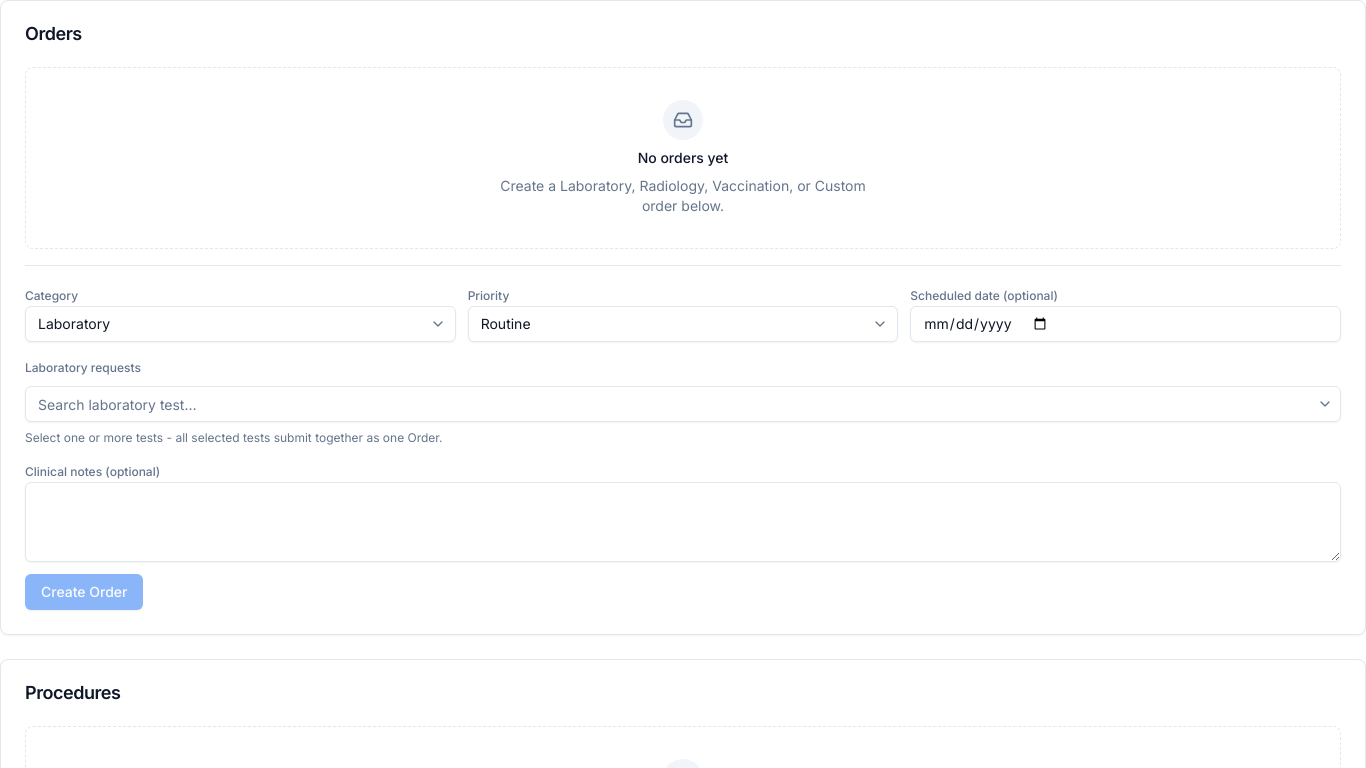
Test: ClinicalOrdersTab - Laboratory Requests searchable multi-select (Task #3) › 2: search filters the catalog by typed text
Type "uri" into the field with placeholder "Search laboratory test…" at (683, 404), box [25,386,1341,422]
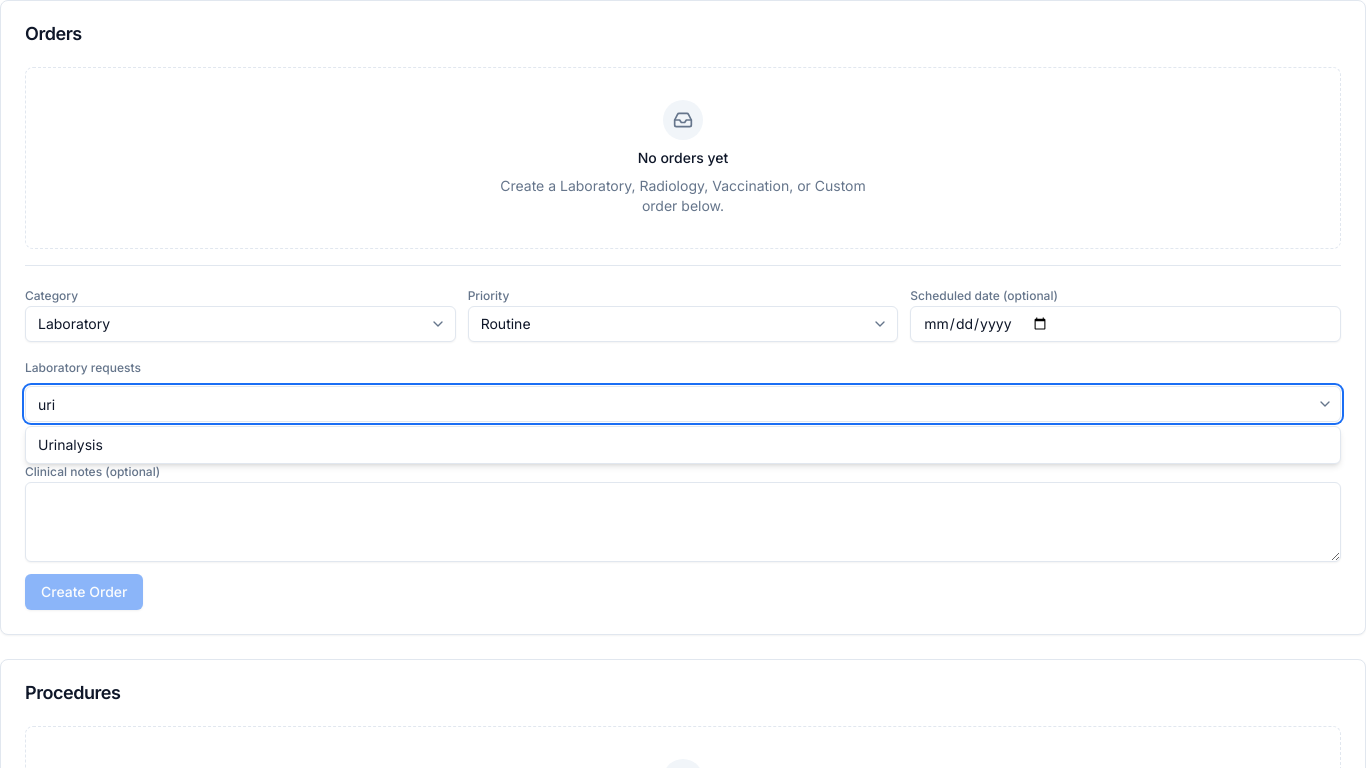
Check: the button "Urinalysis" is shown, box [26,427,1340,463]
Check: the button "CBC" is gone
